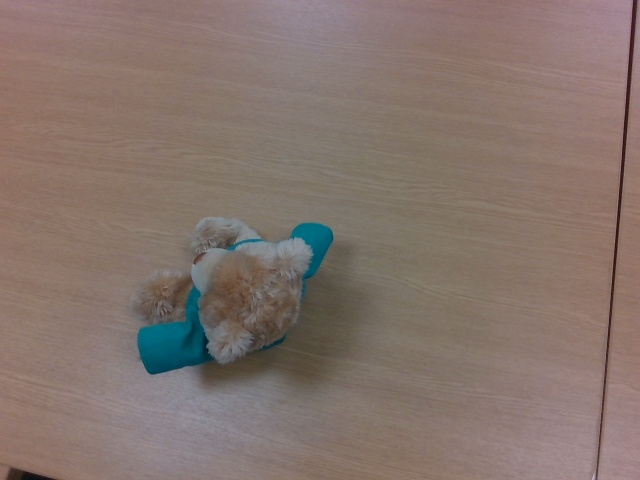teddy: (130, 214, 333, 374)
